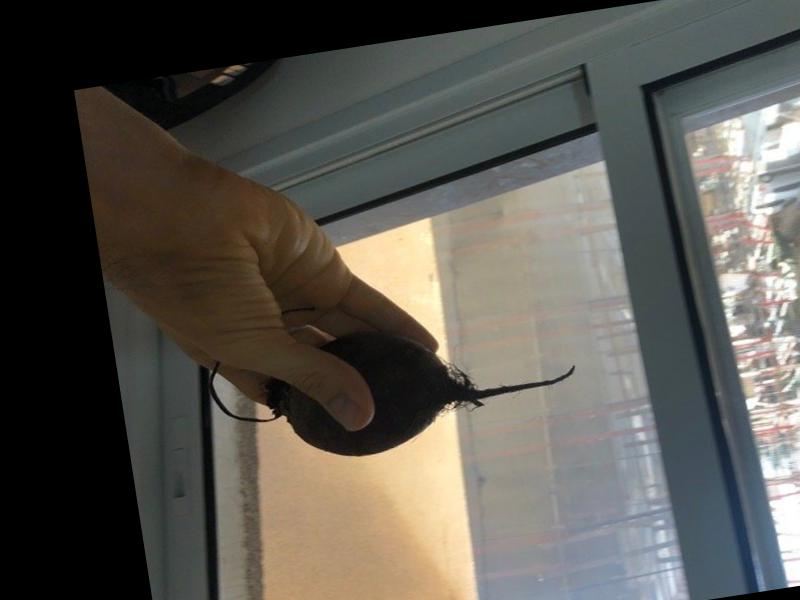Beet: (199, 266, 584, 477)
